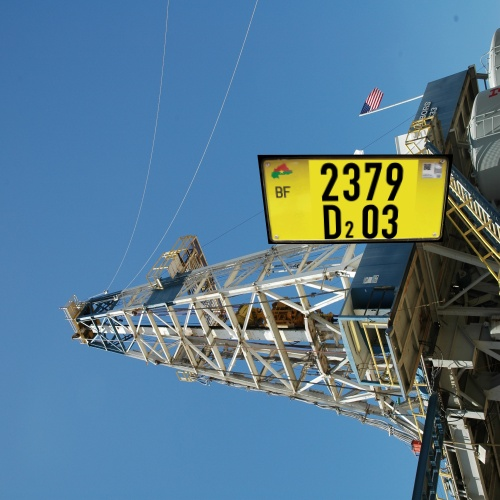plate: (241, 137, 464, 257)
